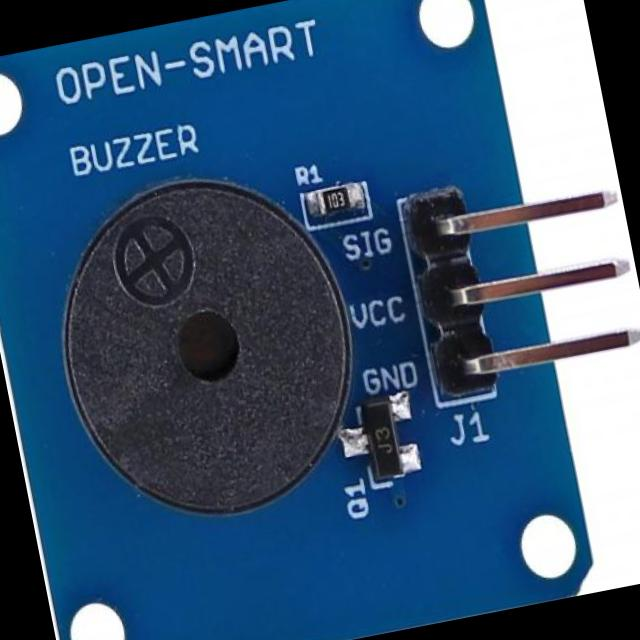connector: (397, 157, 640, 411)
resistor: (306, 181, 366, 227)
transistor: (344, 393, 422, 497)
